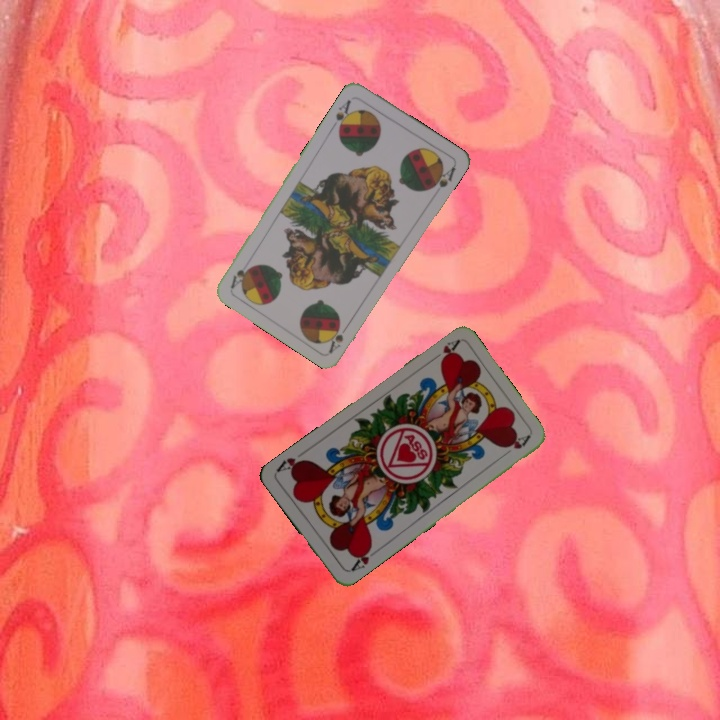HA: (426, 336, 462, 365), (345, 541, 375, 574)
SA: (331, 95, 356, 134), (325, 321, 346, 355)
